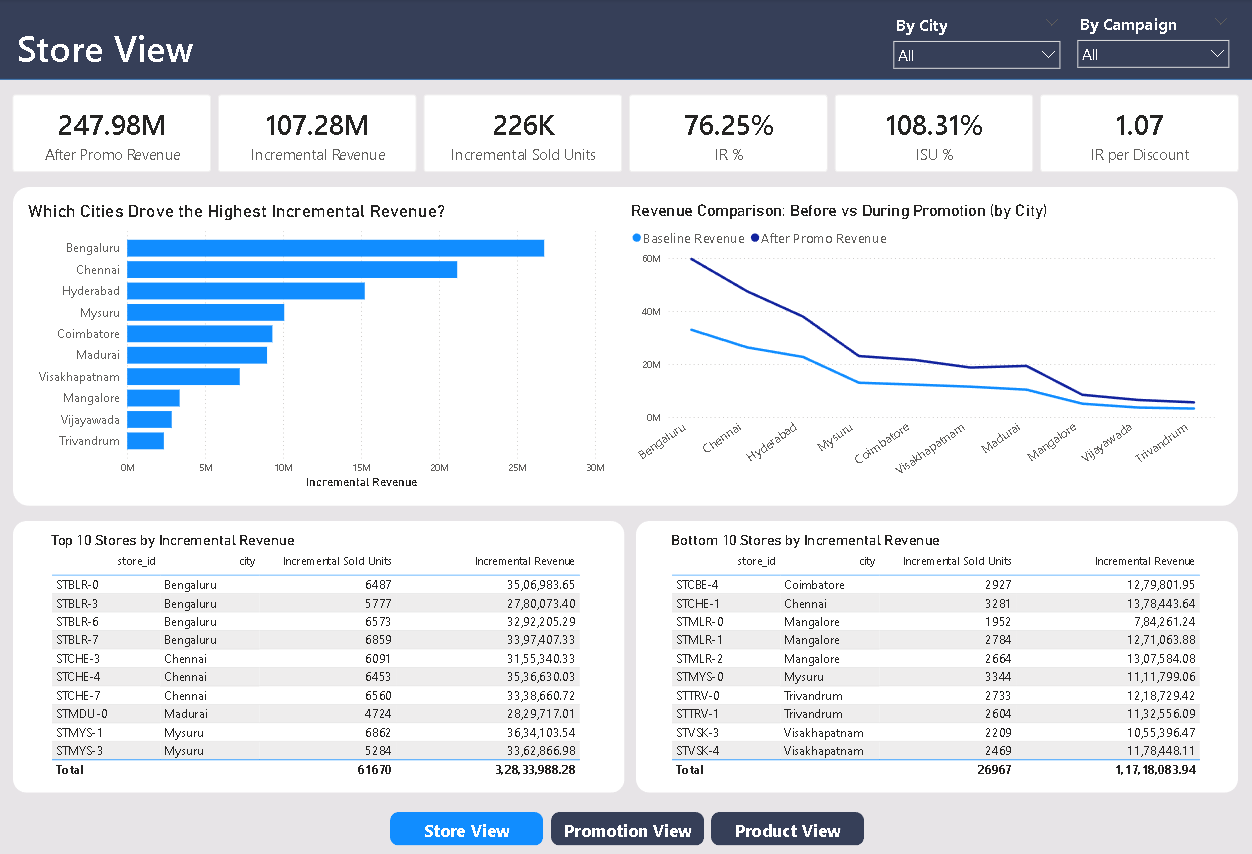

The dashboard page shown, as its layout file describes it:
{"tool":"powerbi","page":{"name":"Store View","canvas":[1500,1025],"ordinal":0},"visuals":[{"type":"shape","box":[760,622.5,717.5,323.8],"z":0},{"type":"shape","box":[17.5,622.5,728.8,323.8],"z":1000},{"type":"shape","box":[17.5,223.8,1460,380],"z":2000},{"type":"barChart","fields":{"Category":["dim_stores.city"],"Y":["key_measures.Incremental Revenue"]},"box":[31.2,241.2,697.5,347.5],"z":3000},{"type":"lineChart","fields":{"Category":["dim_stores.city"],"Y":["key_measures.Baseline Revenue","key_measures.After Promo Revenue"]},"box":[750,241.2,707.5,347.5],"z":4000},{"type":"tableEx","title":"Top 10 Stores","fields":{"Values":["dim_stores.store_id","dim_stores.city","key_measures.Incremental Sold Units","key_measures.Incremental Revenue"]},"box":[58.8,635,641.2,298.8],"z":5000},{"type":"shape","box":[-7.5,0,1507.5,96.2],"z":6000},{"type":"cardVisual","fields":{"Data":["key_measures.After Promo Revenue","key_measures.Incremental Revenue","key_measures.Incremental Sold Units","key_measures.IR %","key_measures.ISU %","key_measures.IR per Discount"]},"box":[0,96.2,1500,127.5],"z":7000},{"type":"actionButton","box":[467.5,968.8,182.5,40],"z":8000},{"type":"actionButton","box":[658.8,968.8,182.5,40],"z":9000},{"type":"actionButton","box":[850,968.8,182.5,40],"z":10000},{"type":"tableEx","title":"Top 10 Stores","fields":{"Values":["dim_stores.store_id","dim_stores.city","key_measures.Incremental Sold Units","key_measures.Incremental Revenue"]},"box":[797.5,635,641.2,298.8],"z":11000},{"type":"textbox","box":[17.5,22.5,382.5,73.8],"z":12000},{"type":"slicer","fields":{"Values":["dim_stores.city"]},"box":[1057.1,12.9,218.6,72.9],"z":13000},{"type":"slicer","fields":{"Values":["dim_campaigns.campaign_name"]},"box":[1276.2,12.5,201.2,72],"z":14000}]}

Visuals, with their boxes in screenshot pixels (x1, y1, x2, y2), scaled from the page's 1500x1025 canvas onto the 1252x854 screenshot:
shape: locate(634, 519, 1233, 788)
shape: locate(15, 519, 623, 788)
shape: locate(15, 186, 1233, 503)
barChart - dim_stores.city x key_measures.Incremental Revenue: locate(26, 201, 608, 490)
lineChart - dim_stores.city x key_measures.Baseline Revenue: locate(626, 201, 1217, 490)
"Top 10 Stores" tableEx: locate(49, 529, 584, 778)
shape: locate(0, 0, 1251, 80)
cardVisual - key_measures.After Promo Revenue x key_measures.Incremental Revenue: locate(0, 80, 1251, 186)
actionButton: locate(390, 807, 543, 841)
actionButton: locate(550, 807, 702, 841)
actionButton: locate(709, 807, 862, 841)
"Top 10 Stores" tableEx: locate(666, 529, 1201, 778)
textbox: locate(15, 19, 334, 80)
slicer - dim_stores.city: locate(882, 11, 1065, 71)
slicer - dim_campaigns.campaign_name: locate(1065, 10, 1233, 70)
